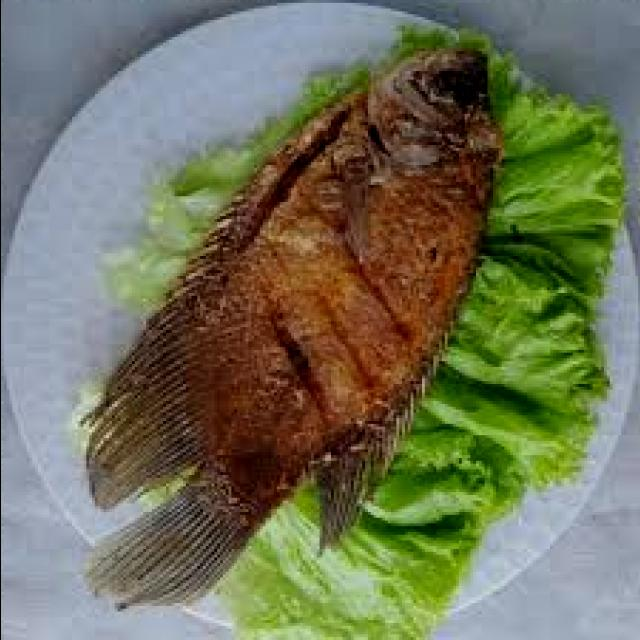ikan goreng: (80, 48, 501, 609)
